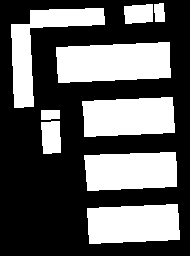parkingspot: (56, 42, 169, 66), (57, 59, 170, 82), (87, 204, 178, 227), (82, 97, 173, 120), (84, 152, 176, 174), (88, 221, 179, 243), (84, 114, 174, 136), (86, 169, 176, 190), (11, 24, 33, 107), (30, 8, 104, 27), (41, 121, 60, 153), (124, 4, 152, 23), (154, 3, 164, 21), (41, 110, 59, 119)
